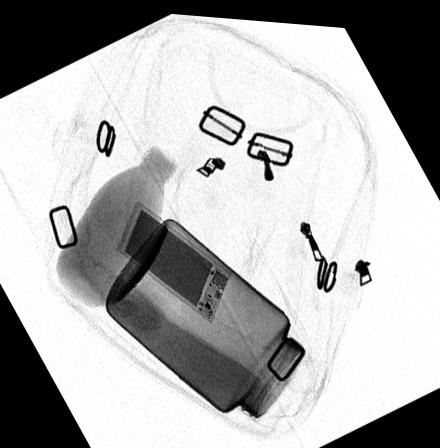Powerbank: (114, 197, 232, 320)
